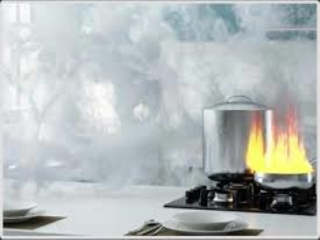fire: (240, 116, 313, 195)
